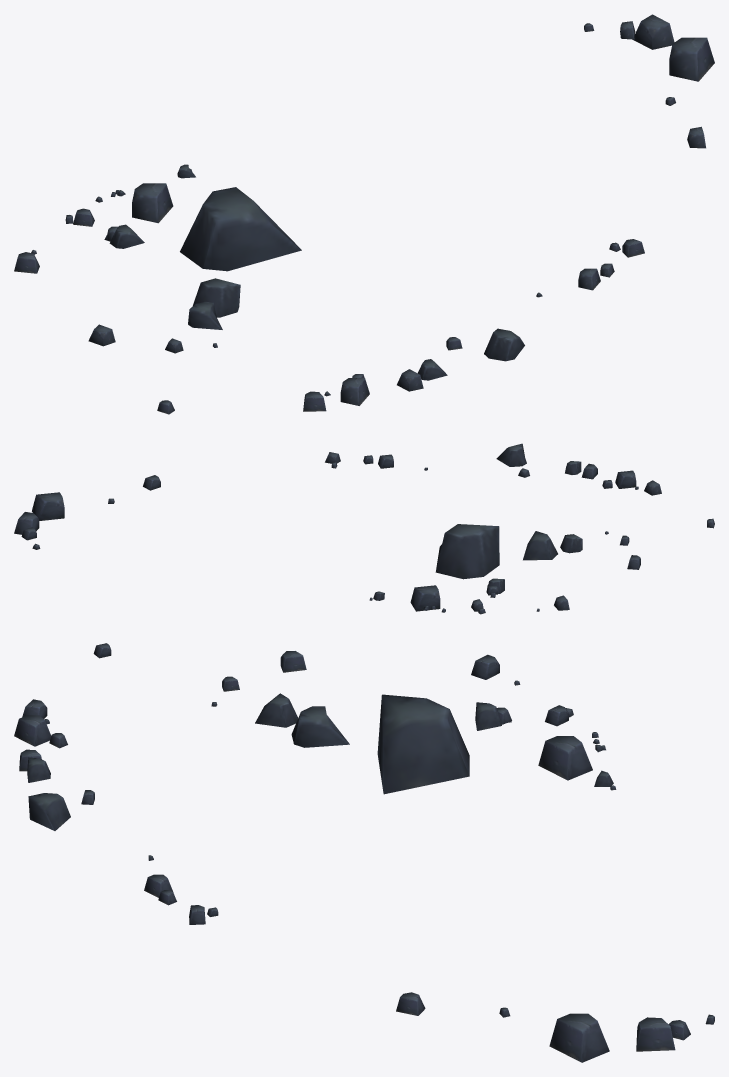
Rendered from shitou19.fbx.
The picture shows the model from 3 angles, top to bottom: view 1: azimuth 30°, elevation 25°; view 2: azimuth 150°, elevation 25°; view 3: azimuth 270°, elevation 25°; orthographic projection. The views are drawn at different scales.
Visible parts, largest first — view 1: shitou19; view 2: shitou19; view 3: shitou19.
Part boxes in pixels (x1=…): shitou19: x1=14, y1=14, x2=714, y2=414; shitou19: x1=14, y1=443, x2=714, y2=614; shitou19: x1=14, y1=643, x2=714, y2=1062.
Bounding box in the file's own units: 10698 × 774 × 7769.
